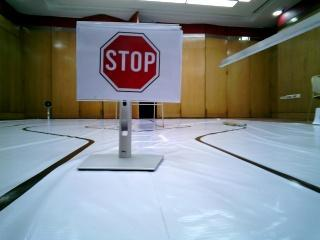stop: (79, 26, 174, 95)
